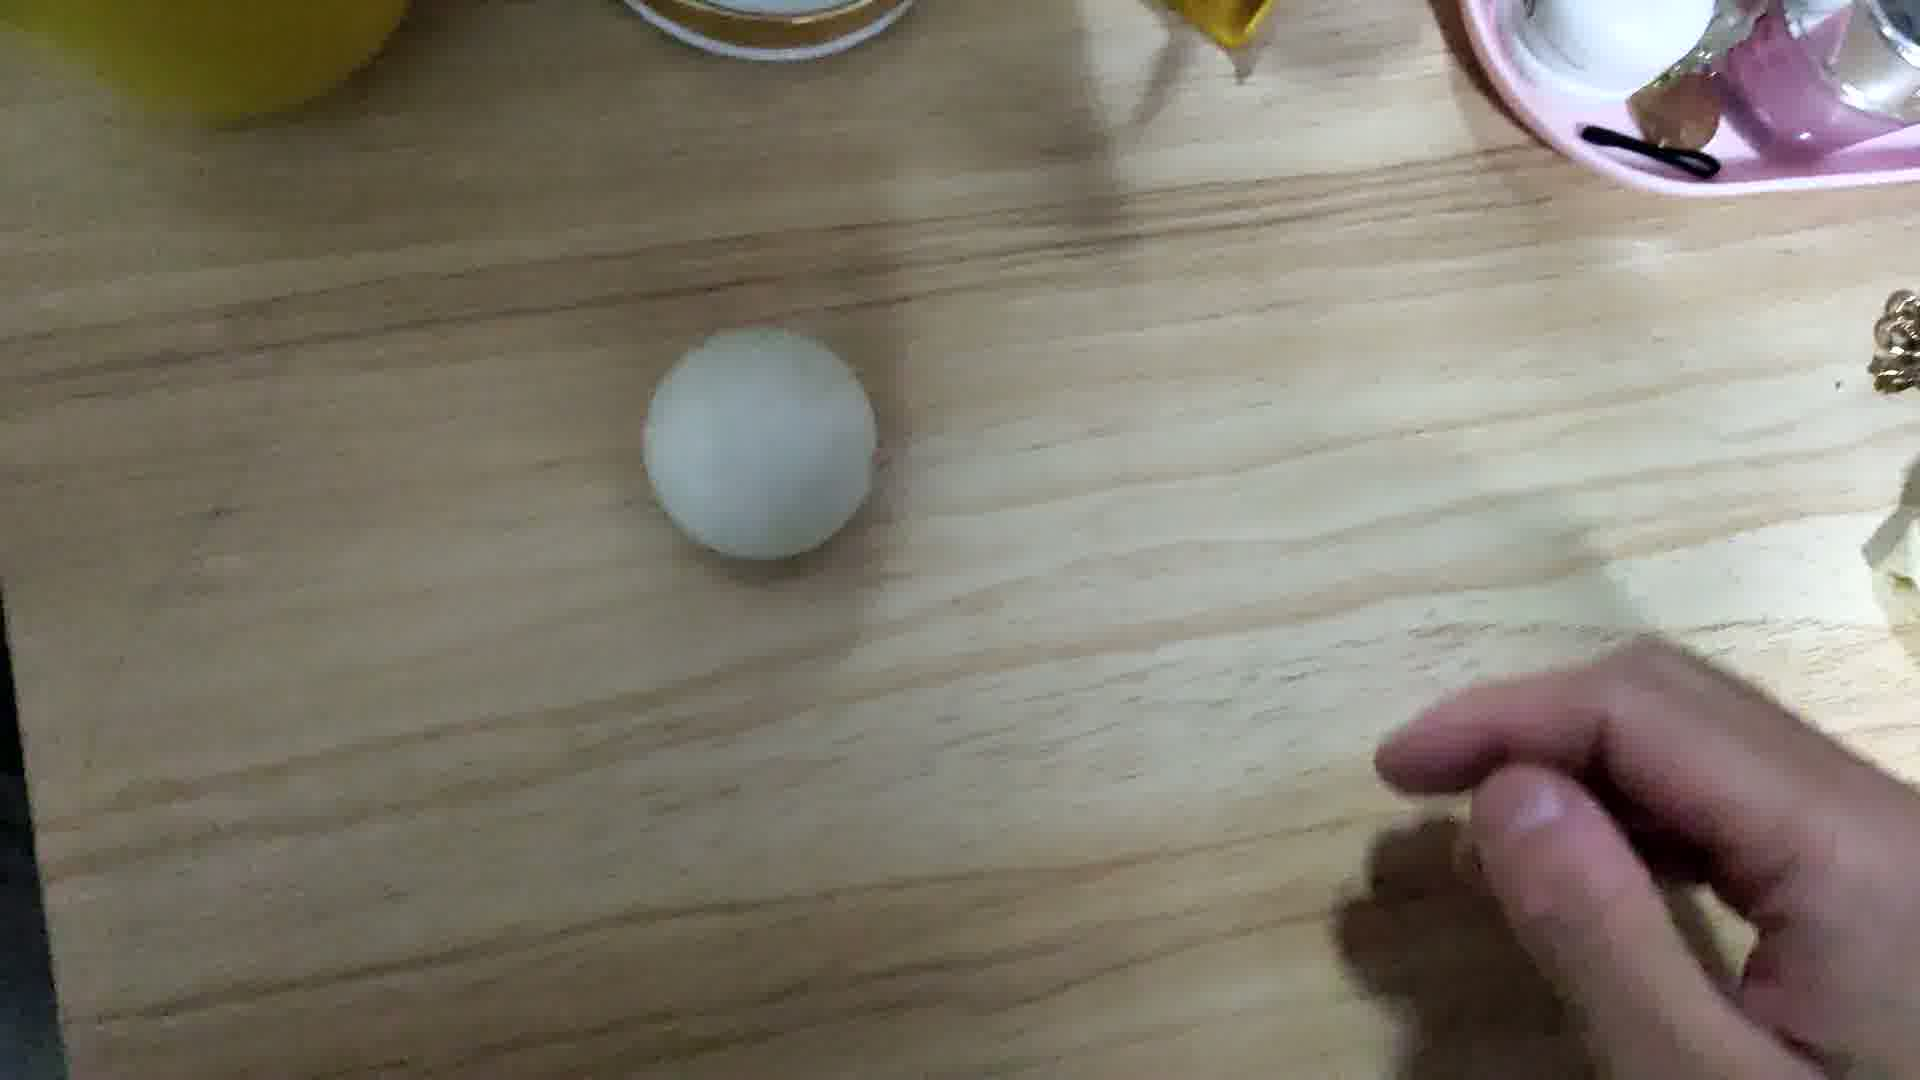Ball: (641, 327, 880, 560)
